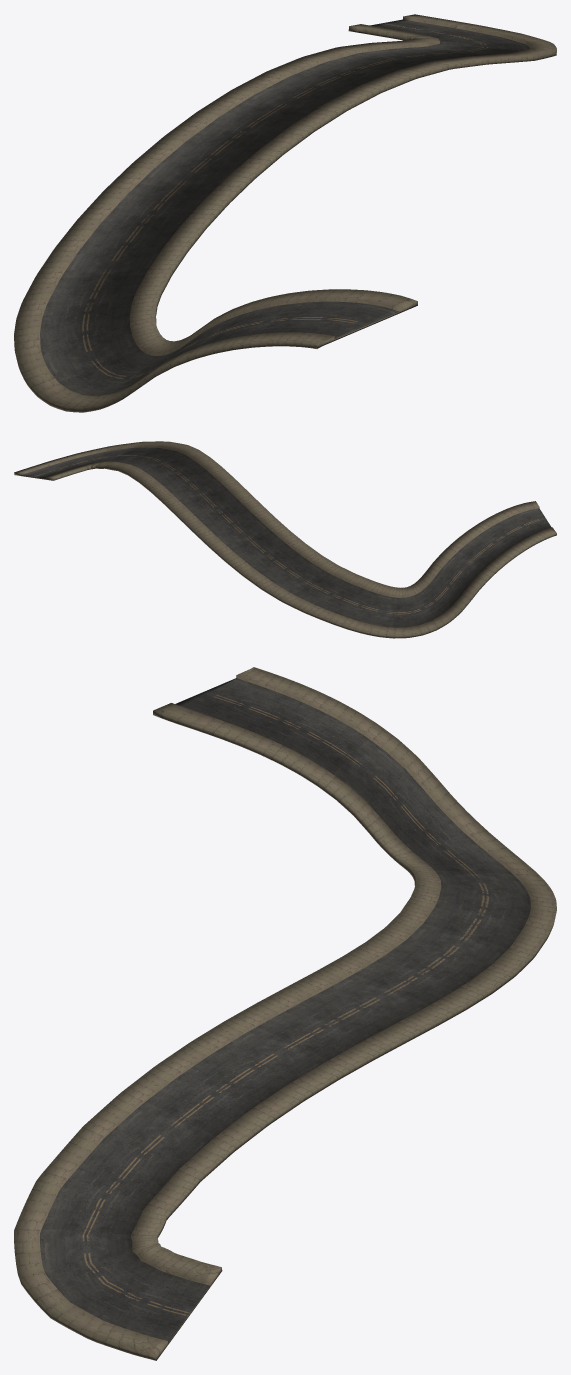
The model's file is road.fbx.
3 renders of one model, top to bottom at view 1: azimuth 90°, elevation 25°; view 2: azimuth 150°, elevation 25°; view 3: azimuth 270°, elevation 25°, orthographic. The views are drawn at different scales.
Visible parts, largest first — view 1: Cube.001; view 2: Cube.001; view 3: Cube.001.
Boxes of the visible parts, <box> form: Cube.001: <box>14,14,556,412</box>; Cube.001: <box>14,441,556,638</box>; Cube.001: <box>14,667,556,1360</box>.
Bounding box in the file's own units: 8773 × 1478 × 3945.
Materials: 1 (1 with a texture image).
